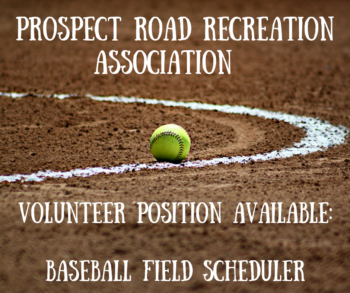tennis_ball: (148, 122, 195, 163)
